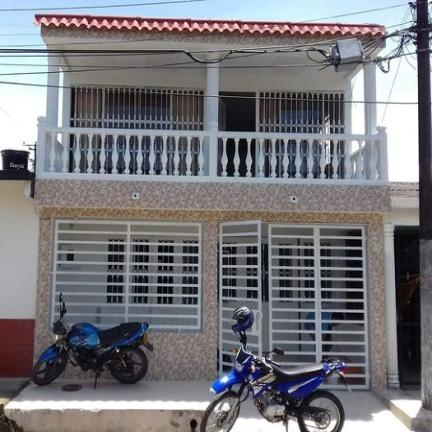casa: (35, 13, 397, 388)
